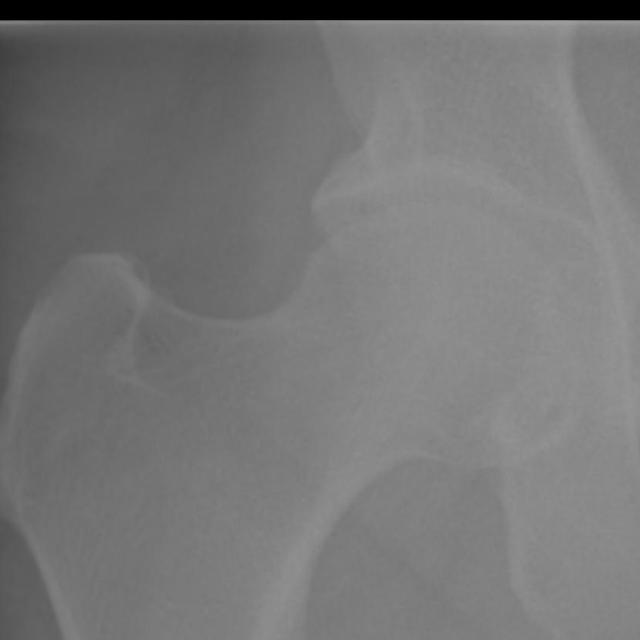Fitted_femural_head: (299, 203, 432, 299)
